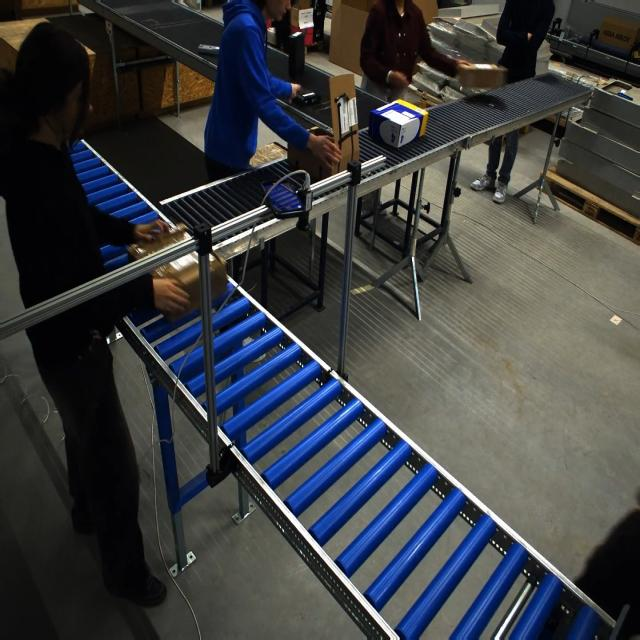box: (127, 226, 225, 317), (306, 70, 360, 178), (369, 98, 426, 148), (455, 63, 507, 90)
